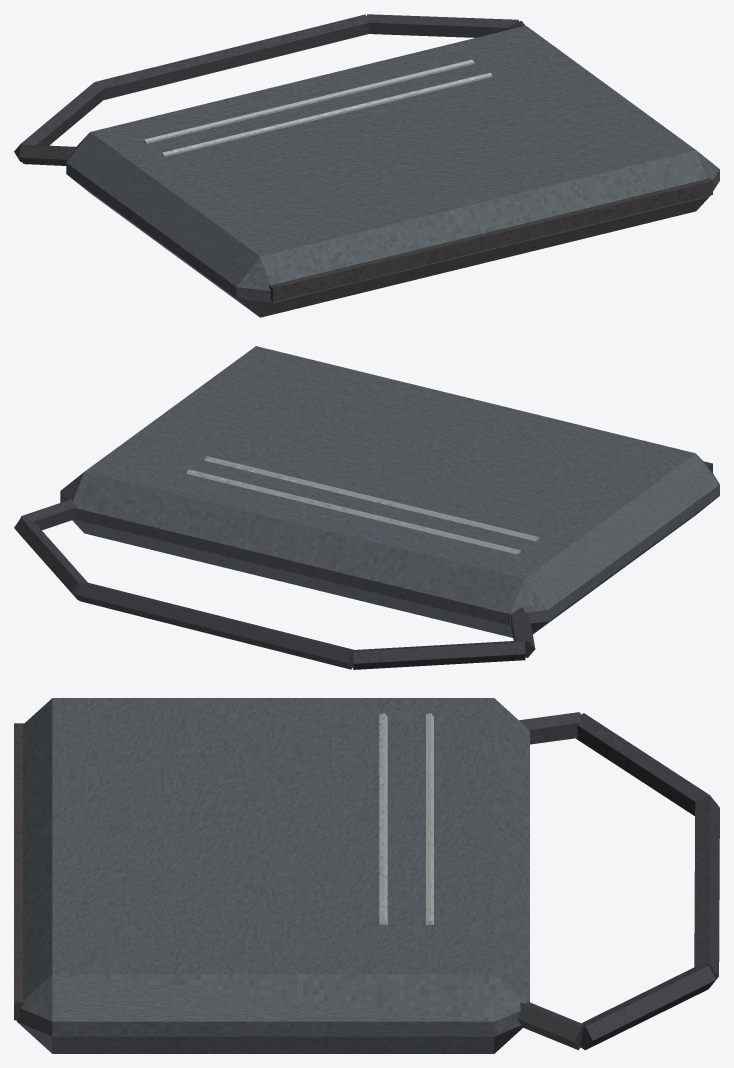
File: wallet_travel.glb
3 views of the same model, one above another, from view 1: azimuth 30°, elevation 25°; view 2: azimuth 150°, elevation 25°; view 3: azimuth 270°, elevation 25° (orthographic). The views are drawn at different scales.
Visible parts, largest first — view 1: block_card or folded wallet, block_wallet folded edge, block_neck strap 2, block_topstitch 0 (×2), block_neck strap 3, block_neck strap 1, block_neck strap 0; view 2: block_card or folded wallet, block_neck strap 2, block_topstitch 0 (×2), block_neck strap 1, block_neck strap 3, block_neck strap 4, block_neck strap 0; view 3: block_card or folded wallet, block_neck strap 2, block_neck strap 3, block_neck strap 1, block_topstitch 0 (×2), block_wallet folded edge, block_neck strap 4, block_neck strap 0.
Boxes of the visible parts, x1=… form: block_card or folded wallet: x1=66, y1=25, x2=719, y2=317; block_wallet folded edge: x1=268, y1=177, x2=712, y2=302; block_neck strap 2: x1=94, y1=14, x2=368, y2=100; block_topstitch 0 (×2): x1=143, y1=59, x2=492, y2=156; block_neck strap 3: x1=366, y1=14, x2=518, y2=37; block_neck strap 1: x1=14, y1=82, x2=103, y2=161; block_neck strap 0: x1=19, y1=145, x2=76, y2=165; block_card or folded wallet: x1=60, y1=346, x2=719, y2=637; block_neck strap 2: x1=75, y1=582, x2=353, y2=669; block_topstitch 0 (×2): x1=186, y1=456, x2=538, y2=554; block_neck strap 1: x1=352, y1=641, x2=525, y2=669; block_neck strap 3: x1=14, y1=517, x2=87, y2=599; block_neck strap 4: x1=20, y1=499, x2=76, y2=530; block_neck strap 0: x1=511, y1=607, x2=535, y2=657; block_card or folded wallet: x1=16, y1=698, x2=529, y2=1053; block_neck strap 2: x1=694, y1=796, x2=719, y2=984; block_neck strap 3: x1=581, y1=965, x2=715, y2=1050; block_neck strap 1: x1=576, y1=713, x2=717, y2=815; block_topstitch 0 (×2): x1=379, y1=713, x2=433, y2=924; block_wallet folded edge: x1=14, y1=723, x2=25, y2=1020; block_neck strap 4: x1=517, y1=1002, x2=583, y2=1049; block_neck strap 0: x1=519, y1=712, x2=580, y2=744.
Size of the model in its own units: 0.1833 by 0.022 by 0.169.
Materials: 1 (1 with a texture image).
